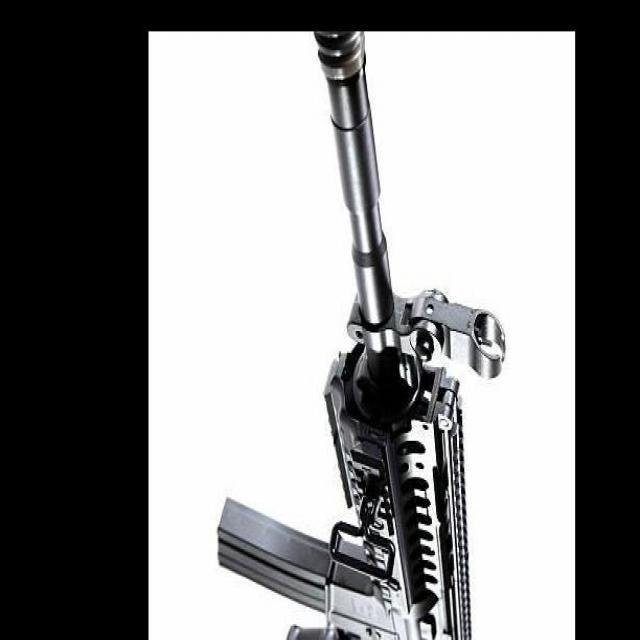weapon: (216, 31, 509, 640)
